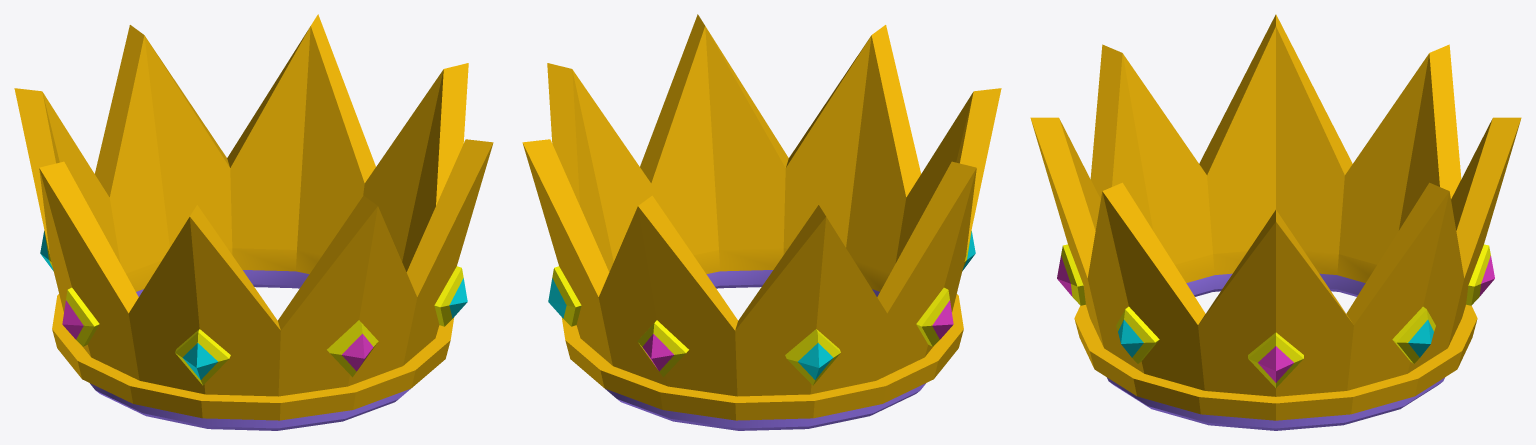
Rendered from item-5.glb.
3 views of the same model, side by side, from view 1: azimuth 30°, elevation 25°; view 2: azimuth 150°, elevation 25°; view 3: azimuth 270°, elevation 25° (orthographic).
Visible parts, largest first — view 1: crown; view 2: crown; view 3: crown.
Boxes of the visible parts, bbox=[...] form: crown: bbox=[14, 14, 493, 430]; crown: bbox=[522, 14, 1001, 430]; crown: bbox=[1030, 14, 1521, 430].
Size of the model in its own units: 2.01 by 1.08 by 2.01.
Materials: 1 (1 with a texture image).
